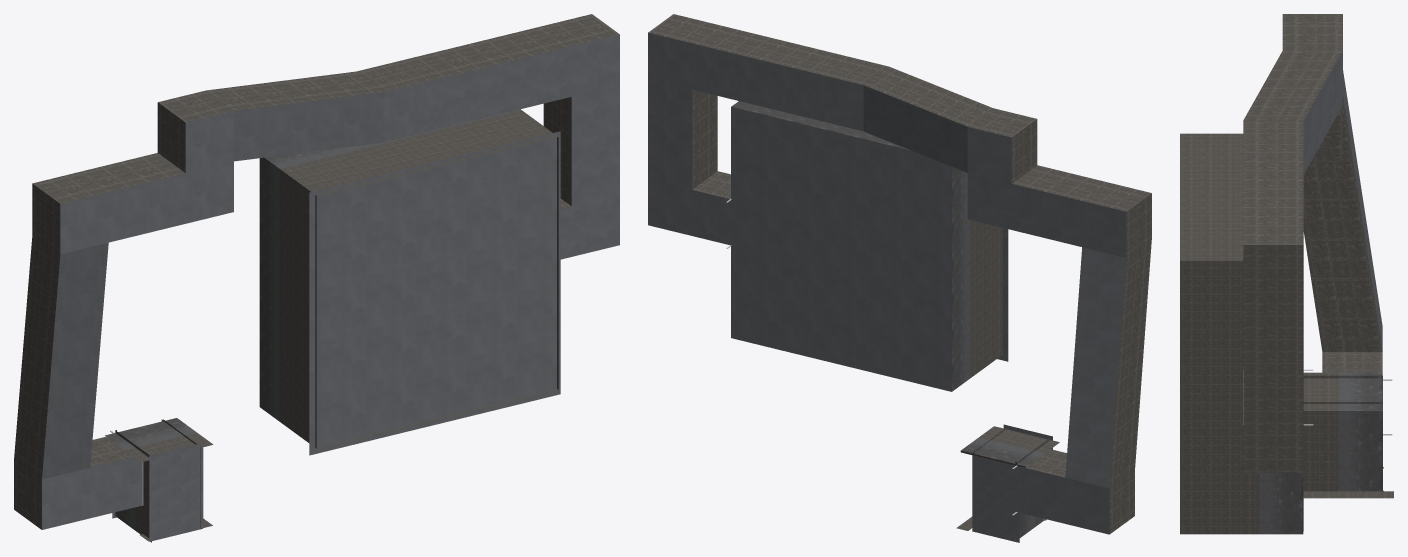
The model's file is starting_area.obj.
3 views of the same model, side by side, from view 1: azimuth 30°, elevation 25°; view 2: azimuth 150°, elevation 25°; view 3: azimuth 270°, elevation 25° (orthographic). The views are drawn at different scales.
Visible parts, largest first — view 1: Floor-lib, ConcreteTiles-lib, Wall-lib; view 2: Floor-lib, ConcreteTiles-lib, Wall-lib; view 3: ConcreteTiles-lib, Wall-lib, Floor-lib.
Part boxes in pixels (box(x1,y1,x2,y2)): Floor-lib: box(42, 34, 619, 541); ConcreteTiles-lib: box(14, 14, 619, 542); Wall-lib: box(105, 109, 520, 530); Floor-lib: box(648, 32, 1126, 542); ConcreteTiles-lib: box(648, 14, 1151, 533); Wall-lib: box(731, 101, 1044, 540); ConcreteTiles-lib: box(1180, 14, 1393, 534); Wall-lib: box(1259, 372, 1383, 534); Floor-lib: box(1303, 51, 1382, 350).
Bounding box in the file's own units: 56 × 41.85 × 17.71.
5 materials, 5 textured.
